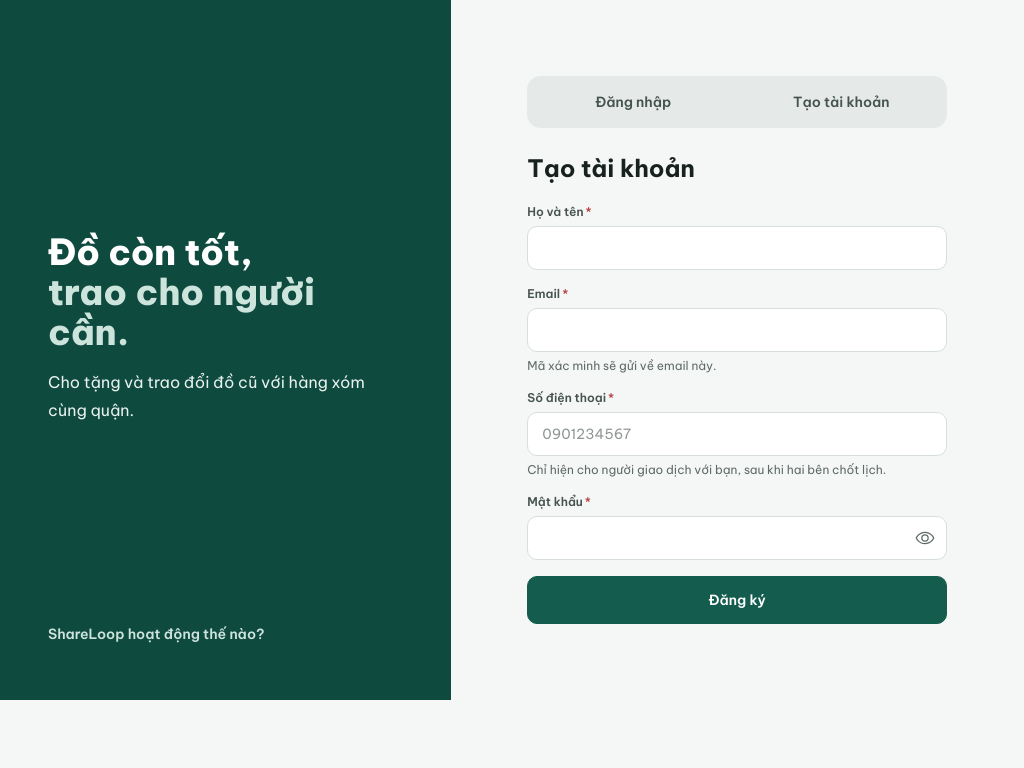
Test case: Register kiểm tra dữ liệu phía trình duyệt › hiện lỗi cho mọi ô và không gọi API khi submit form không hợp lệ
The width and height of the screenshot is (1024, 768).
Click the button "Đăng ký": click(737, 600) [527,576,947,624]
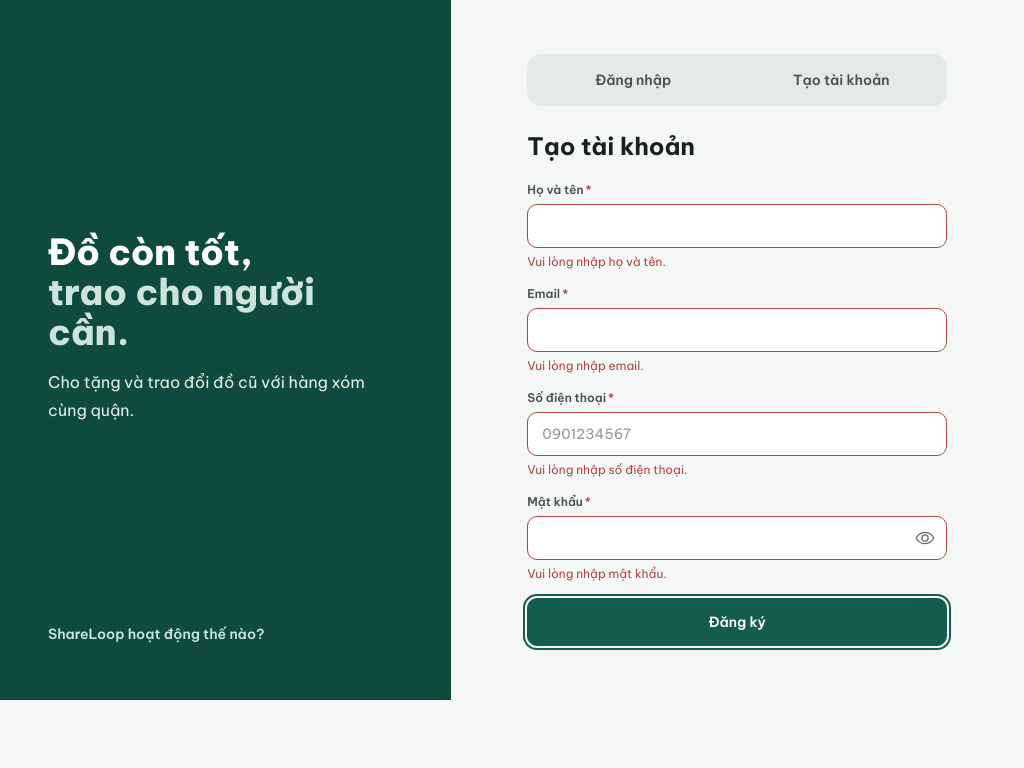
Expected: the text "Vui lòng nhập họ và tên." is shown, [527,254,666,269]
Expected: the text "Vui lòng nhập email." is shown, [527,358,644,373]
Expected: the text "Vui lòng nhập số điện thoại." is shown, [527,462,688,477]
